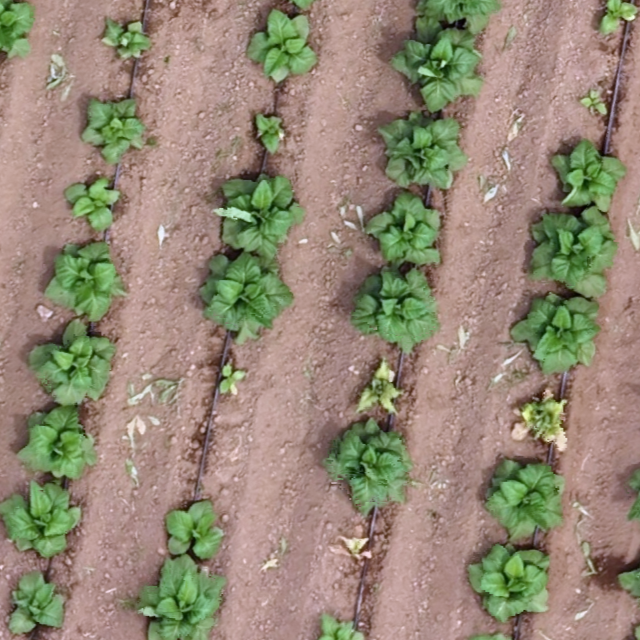healthy: (21, 107, 629, 587), (67, 9, 494, 634), (14, 94, 632, 491), (88, 94, 510, 581), (87, 91, 524, 495), (73, 26, 337, 627), (93, 88, 557, 330), (93, 99, 368, 463), (94, 94, 571, 249), (37, 38, 232, 379), (92, 93, 394, 308), (65, 71, 194, 530), (75, 77, 587, 174), (89, 84, 182, 598), (83, 81, 403, 229), (94, 94, 244, 293), (90, 86, 422, 149), (88, 89, 258, 210), (37, 48, 269, 131), (38, 48, 268, 131), (40, 86, 79, 520), (34, 70, 65, 604), (46, 20, 614, 37), (57, 85, 81, 441), (73, 45, 282, 81), (91, 66, 439, 85), (71, 89, 91, 361), (90, 16, 457, 30), (59, 62, 91, 201), (70, 77, 112, 125), (55, 38, 127, 55), (67, 5, 296, 8), (19, 35, 36, 67), (82, 89, 84, 277)
light_disease: (61, 61, 541, 418), (45, 39, 357, 546), (59, 54, 379, 390)
